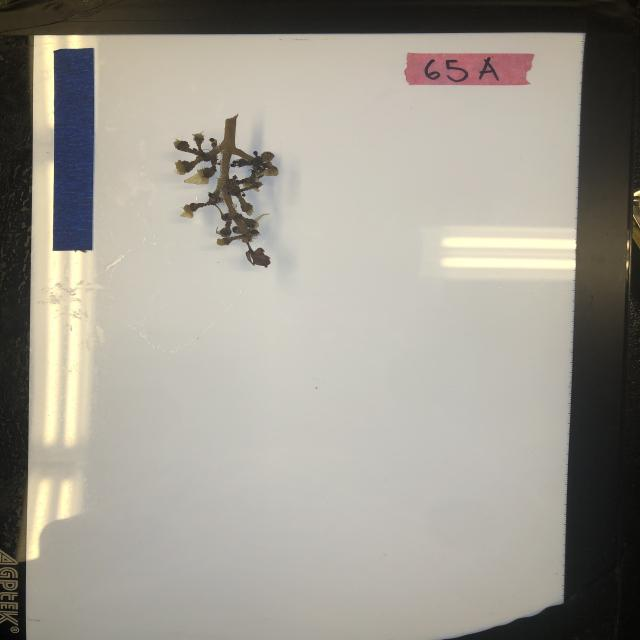index: (405, 49, 536, 87)
measure_label: (50, 47, 96, 254)
rachis_cluster: (171, 112, 285, 270)
